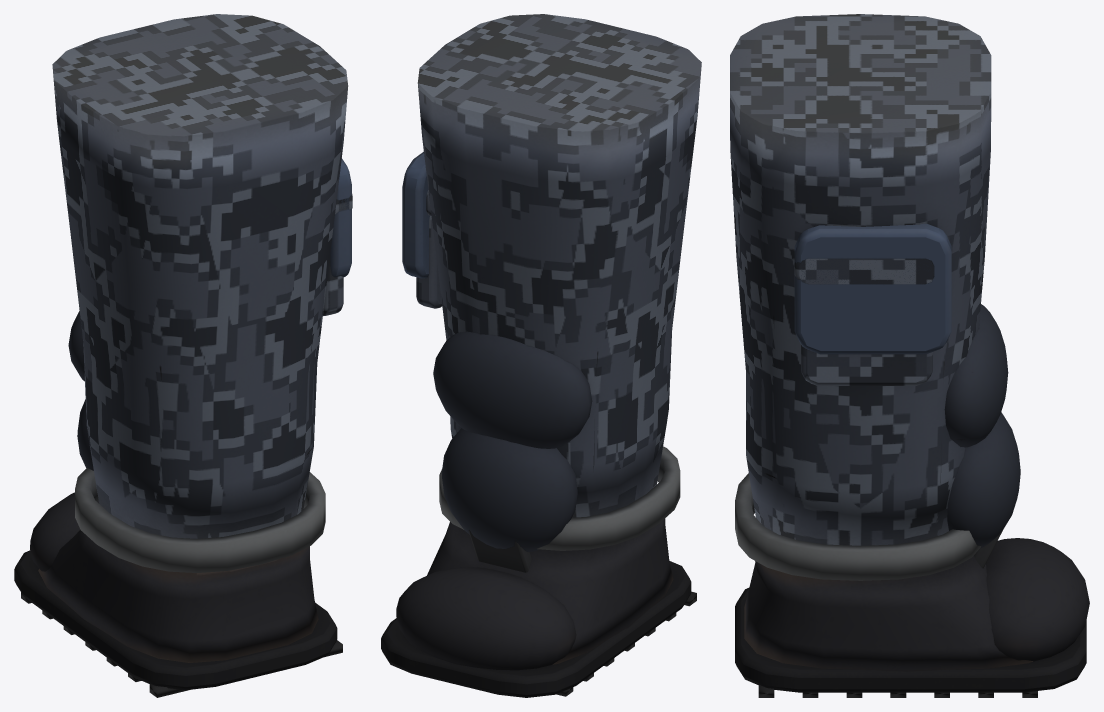
The model's file is Bravo_Leg.glb.
3 views of the same model, side by side, from view 1: azimuth 30°, elevation 25°; view 2: azimuth 150°, elevation 25°; view 3: azimuth 270°, elevation 25° (orthographic). The views are drawn at different scales.
Visible parts, largest first — view 1: Bravo_Leg_body; view 2: Bravo_Leg_body; view 3: Bravo_Leg_body.
Boxes of the visible parts, left/top/right/bottom form: Bravo_Leg_body: left=14, top=14, right=352, bottom=697; Bravo_Leg_body: left=381, top=14, right=701, bottom=697; Bravo_Leg_body: left=730, top=14, right=1089, bottom=697.
Bounding box in the file's own units: 0.91 × 2.03 × 1.15.
Materials: 1 (1 with a texture image).
